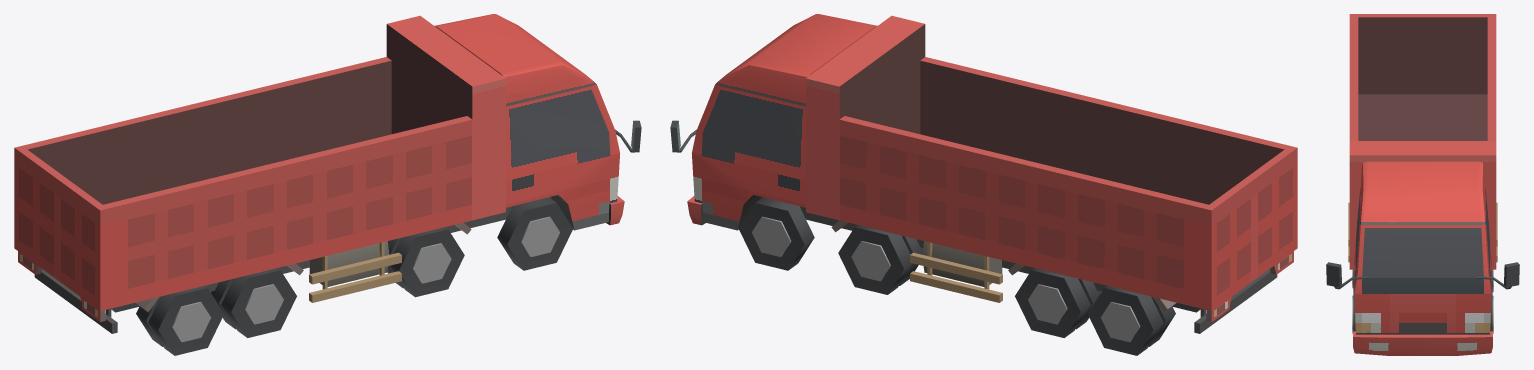
File: Universal_Building_Mine_L2_01_Mod.fbx
The picture shows the model from 3 angles, left to right: view 1: azimuth 30°, elevation 25°; view 2: azimuth 150°, elevation 25°; view 3: azimuth 270°, elevation 25°; orthographic projection. The views are drawn at different scales.
Visible parts, largest first — view 1: Universal_Building_Mine_L2_01_Mod, Universal_Building_Mine_L2_FrontWheel_01_Mod; view 2: Universal_Building_Mine_L2_01_Mod, Universal_Building_Mine_L2_FrontWheel_02_Mod; view 3: Universal_Building_Mine_L2_01_Mod.
Part boxes in pixels (box(x1,y1,x2,y2)): Universal_Building_Mine_L2_01_Mod: box(14, 14, 641, 355); Universal_Building_Mine_L2_FrontWheel_01_Mod: box(497, 197, 573, 270); Universal_Building_Mine_L2_01_Mod: box(670, 14, 1297, 355); Universal_Building_Mine_L2_FrontWheel_02_Mod: box(738, 197, 814, 270); Universal_Building_Mine_L2_01_Mod: box(1326, 14, 1519, 355).
Size of the model in its own units: 1026 by 365 by 377.
